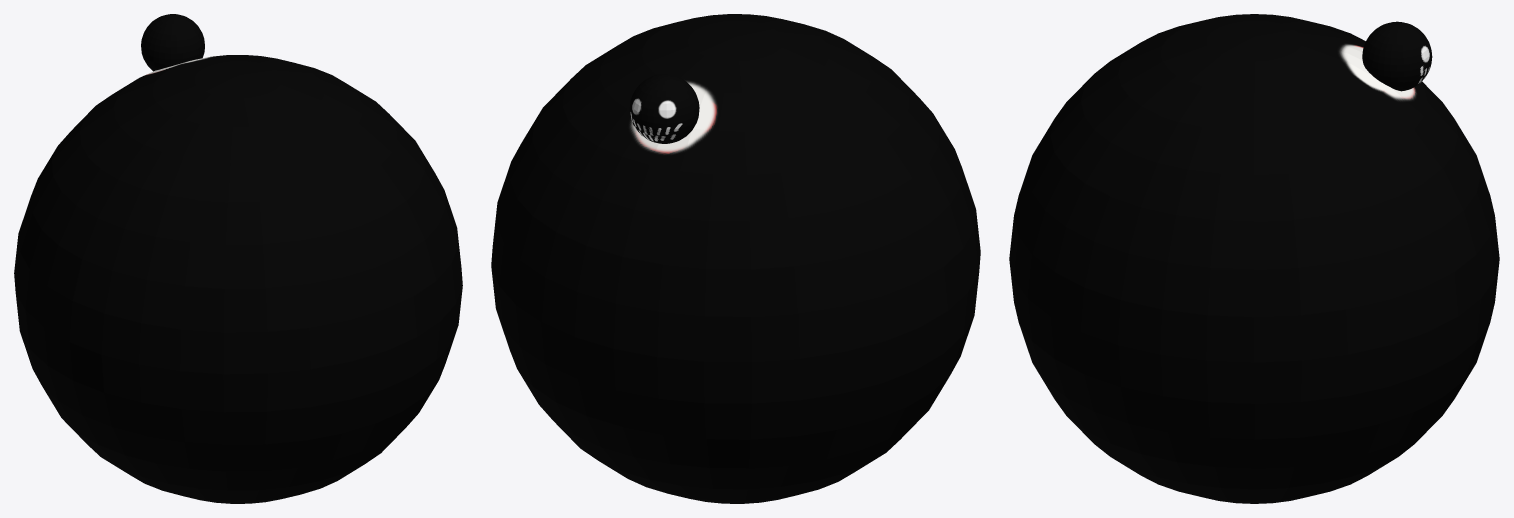
The model's file is BossCore.obj.
The picture shows the model from 3 angles, left to right: view 1: azimuth 30°, elevation 25°; view 2: azimuth 150°, elevation 25°; view 3: azimuth 270°, elevation 25°; orthographic projection. The views are drawn at different scales.
Parts seen in each view (by area): view 1: 球體, 球體.001; view 2: 球體, 球體.001; view 3: 球體, 球體.001.
Part boxes in pixels (left/top/right/bottom): 球體: left=14, top=55, right=462, bottom=503; 球體.001: left=141, top=14, right=204, bottom=71; 球體: left=491, top=14, right=980, bottom=503; 球體.001: left=629, top=74, right=699, bottom=143; 球體: left=1009, top=14, right=1499, bottom=503; 球體.001: left=1362, top=21, right=1432, bottom=91.
Bounding box in the file's own units: 3.5 × 3.59 × 3.5.
Materials: 2 (2 with a texture image).
